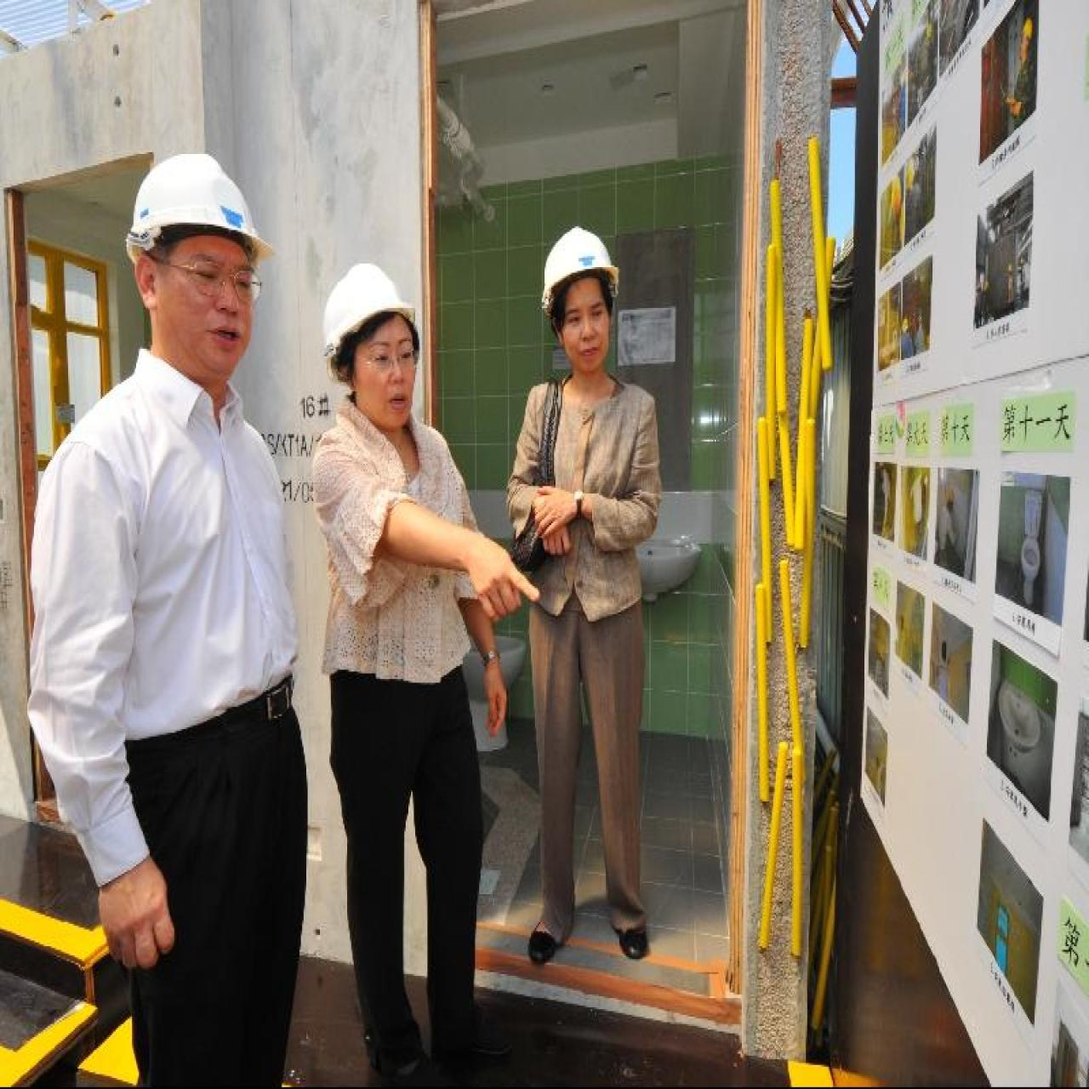NO_Safety_Vest: (37, 378, 286, 768), (315, 414, 482, 682), (511, 375, 666, 622)
Person: (33, 143, 315, 1084), (305, 250, 540, 1089), (496, 214, 671, 973)
